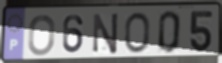0: (156, 9, 182, 55)
5: (189, 9, 215, 54)
6: (62, 15, 85, 56)
N: (92, 11, 120, 55)
O: (26, 13, 57, 57), (123, 11, 151, 55)
